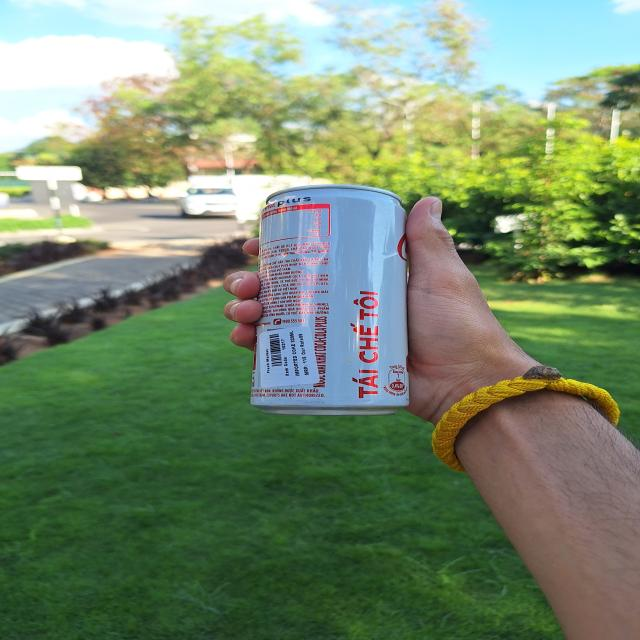Coca Cola Plus: (234, 182, 430, 418)
